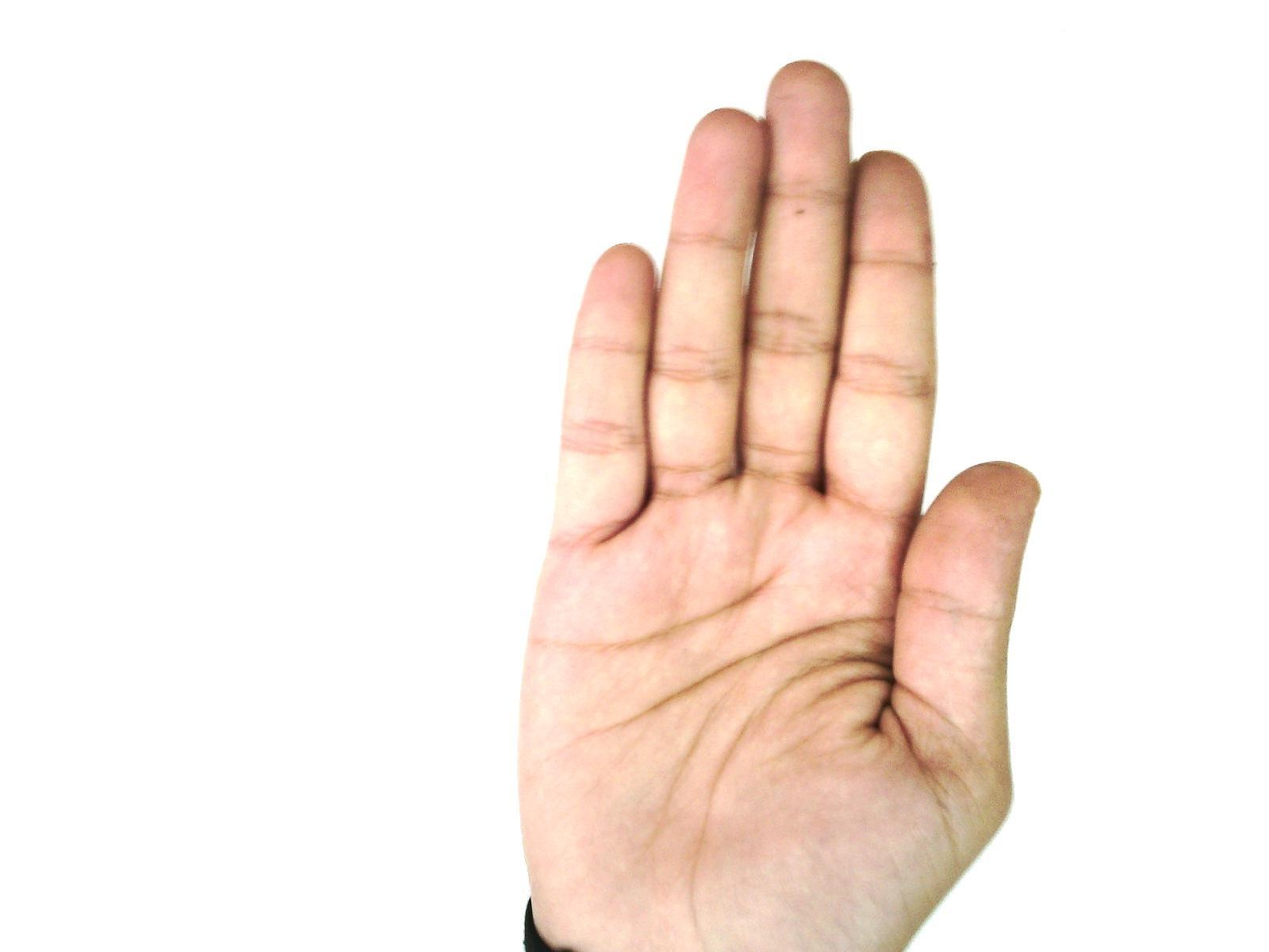open_palm: (513, 59, 1044, 951)
